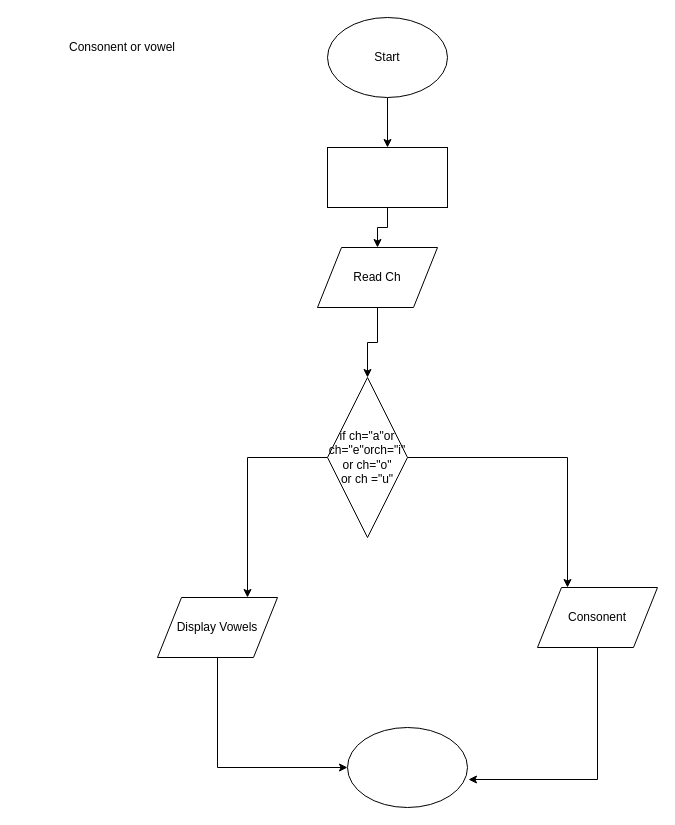
Some shapes in this 675 by 825 pixel diagram are drawn without their labels. The shapes that lost their labels are listed below. From the top down, each one's box as (x1, y1, x2, y2) in pixels, then its label:
(326, 146, 448, 208): Declare Ch
(346, 726, 468, 808): Stop
